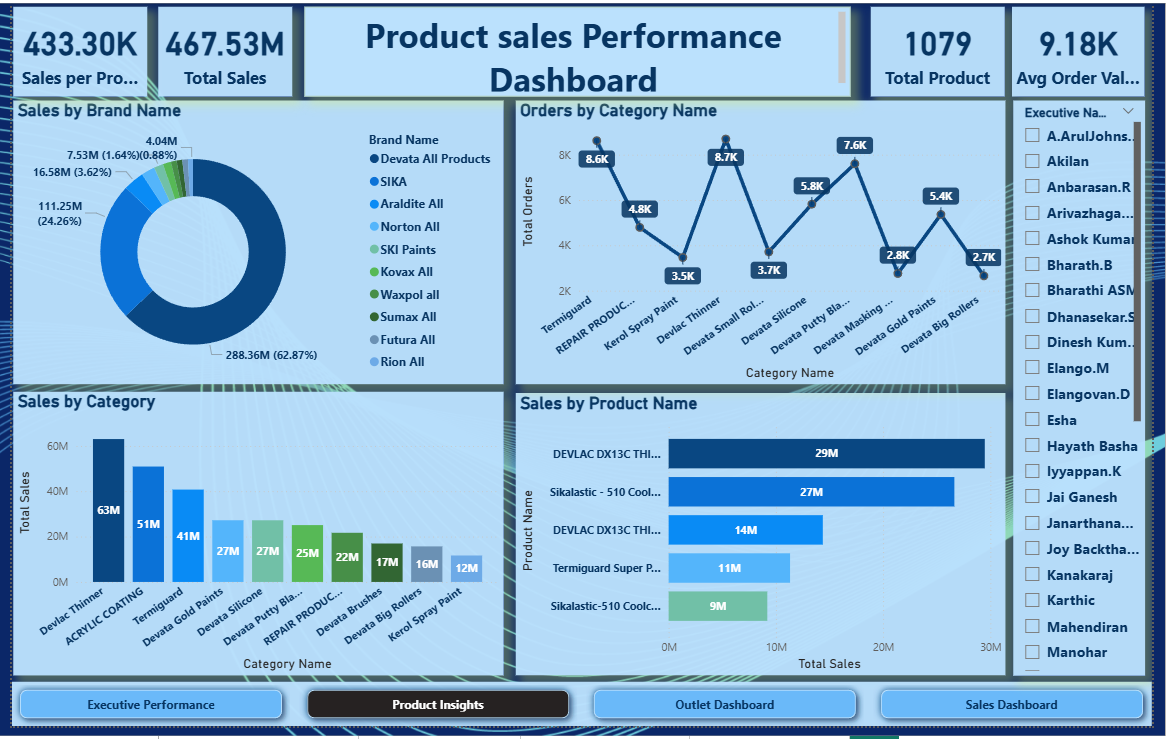

Layout of this report page (visuals, bound fields, positions):
{"tool":"powerbi","page":{"name":"Product Insights","canvas":[1280,812],"ordinal":1},"visuals":[{"type":"donutChart","title":"Sales by Brand Name","fields":{"Category":["Dim_Product.Brand Name"],"Y":["Fact Table.Total Sales"]},"box":[1.4,109.4,550,318.5],"z":0},{"type":"card","fields":{"Values":["Fact Table.Sales per Product"]},"box":[1.4,4.2,150.1,101],"z":1000},{"type":"card","fields":{"Values":["Fact Table.Total Product"]},"box":[963.8,4.2,150.1,101],"z":2000},{"type":"card","fields":{"Values":["Fact Table.Avg Order Value"]},"box":[1122.3,4.2,148.7,101],"z":3000},{"type":"columnChart","title":"Sales by Category","fields":{"Y":["Fact Table.Total Sales"],"Category":["Dim_Product.Category Name"],"Series":["Dim_Product.Category Name"]},"box":[1.4,436.3,550,318.5],"z":4000},{"type":"barChart","title":"Sales by Product Name","fields":{"Category":["Dim_Product.Product Name"],"Y":["Fact Table.Total Sales"],"Series":["Dim_Product.Product Name"]},"box":[565.4,437.7,549.9,317.1],"z":5000},{"type":"lineChart","title":"Orders by Category Name","fields":{"Y":["Fact Table.Total Orders"],"Category":["Fact Table.Category Name"]},"box":[565.4,109.4,549.9,318.5],"z":6000},{"type":"pageNavigator","box":[0,761.8,1279.5,50.5],"z":7000},{"type":"card","fields":{"Values":["Fact Table.Total Sales"]},"box":[164.1,4.2,150.1,101],"z":8000},{"type":"slicer","fields":{"Values":["Fact Table.Executive Name"]},"box":[1123.7,109.4,148,645.3],"z":9000},{"type":"textbox","box":[328.3,4.2,613.1,101],"z":10000}]}

Visuals, with their boxes in screenshot pixels (x1, y1, x2, y2), scaled from the page's 1280x812 canvas onto the 1166x739 screenshot:
"Sales by Brand Name" donutChart: 1,100,502,389
card - Fact Table.Sales per Product: 1,4,138,96
card - Fact Table.Total Product: 878,4,1015,96
card - Fact Table.Avg Order Value: 1022,4,1158,96
"Sales by Category" columnChart: 1,397,502,687
"Sales by Product Name" barChart: 515,398,1016,687
"Orders by Category Name" lineChart: 515,100,1016,389
pageNavigator: 0,693,1165,738
card - Fact Table.Total Sales: 149,4,286,96
slicer - Fact Table.Executive Name: 1024,100,1158,687
textbox: 299,4,858,96
